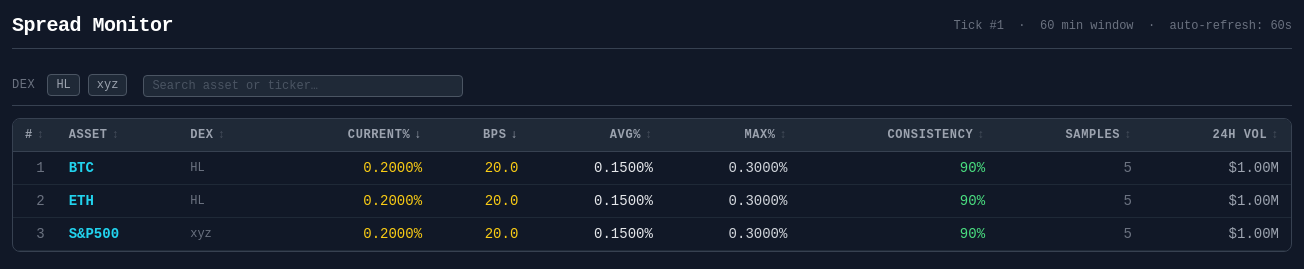
Test: SpreadMonitor › filter bar integration › filters rows by asset query typed in the search input
Type "btc" into the field. click: (303, 86)
box: [143,75,463,97]
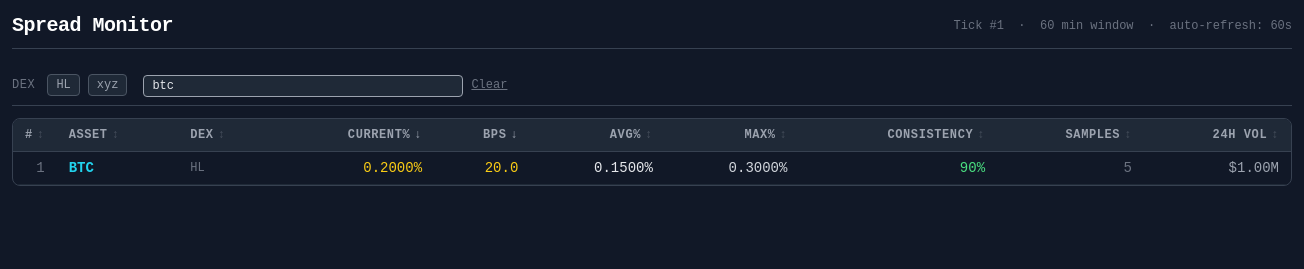
Expected: the text "BTC" is shown, [57,152,178,184]
Expected: the text "ETH" is gone
Expected: the text "S&P500" is gone
